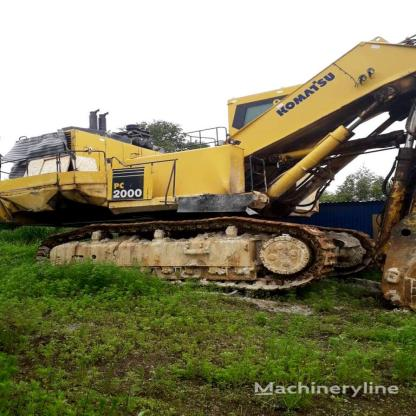excavator: (15, 22, 416, 301)
